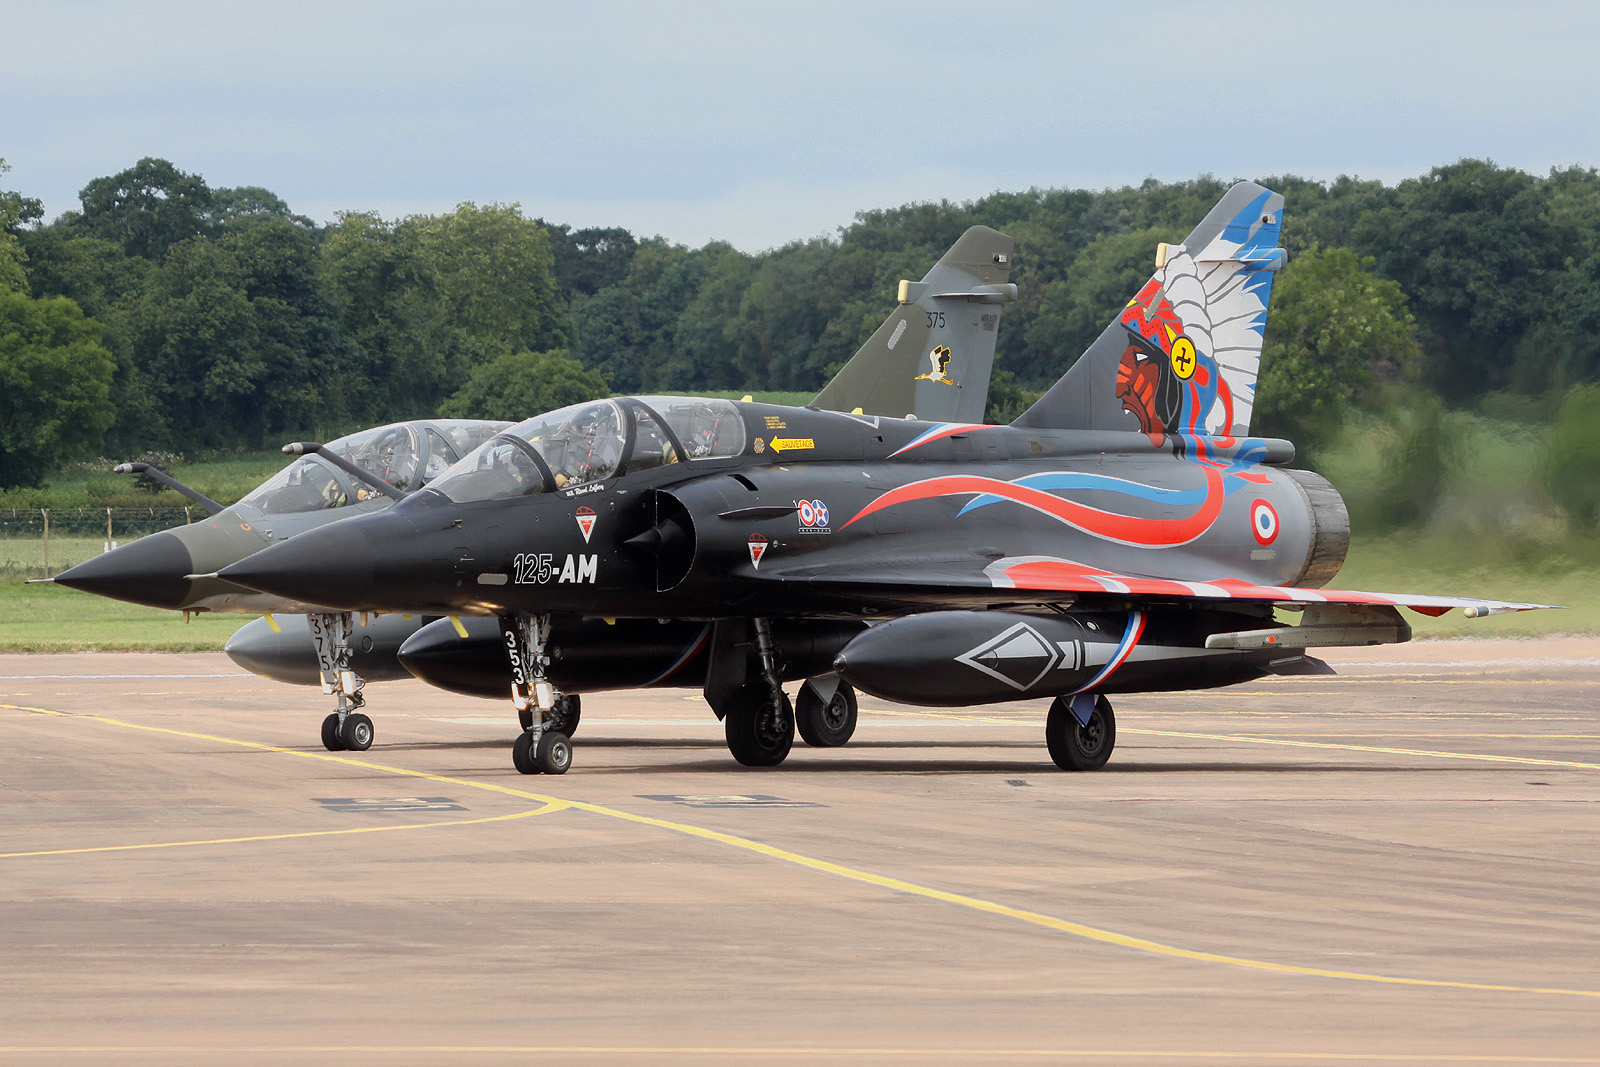Mirage2000: (182, 180, 1571, 775), (23, 224, 1018, 751)
